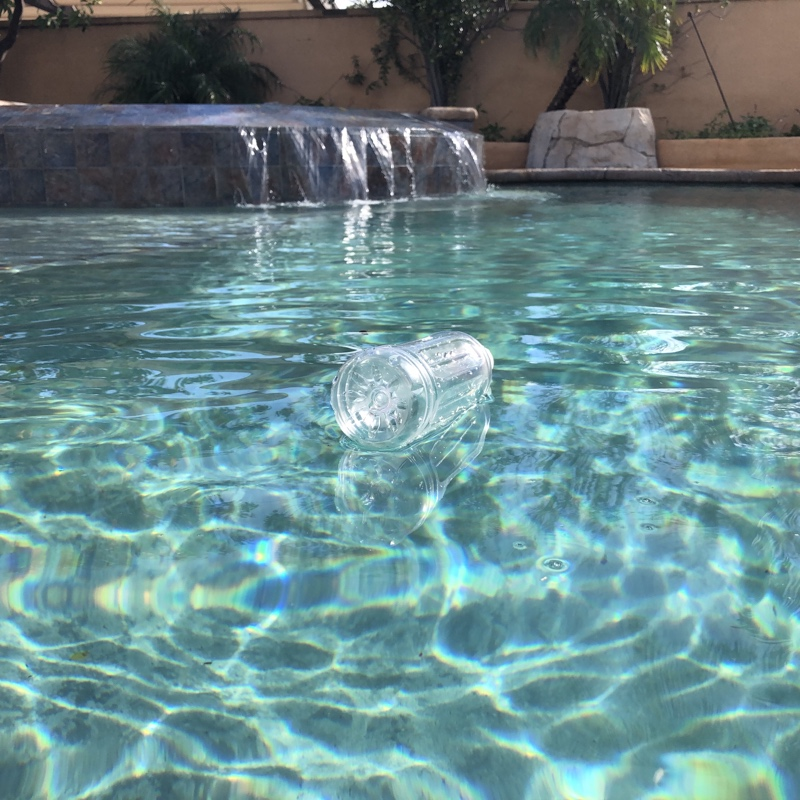Plastic Bottle: (325, 324, 495, 456)
